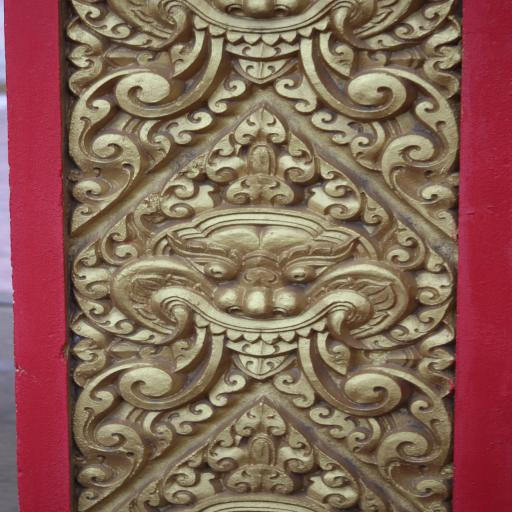lua: (312, 157, 361, 222), (164, 446, 218, 503), (310, 452, 362, 506), (222, 175, 304, 207), (389, 302, 454, 342), (160, 170, 209, 218), (77, 298, 133, 336), (71, 245, 110, 298), (205, 133, 246, 183), (418, 250, 455, 304), (236, 108, 287, 145), (386, 221, 425, 269), (99, 212, 132, 266), (281, 133, 316, 183), (234, 405, 287, 436), (208, 425, 244, 470), (281, 428, 316, 472), (360, 191, 390, 235), (120, 481, 161, 512)
